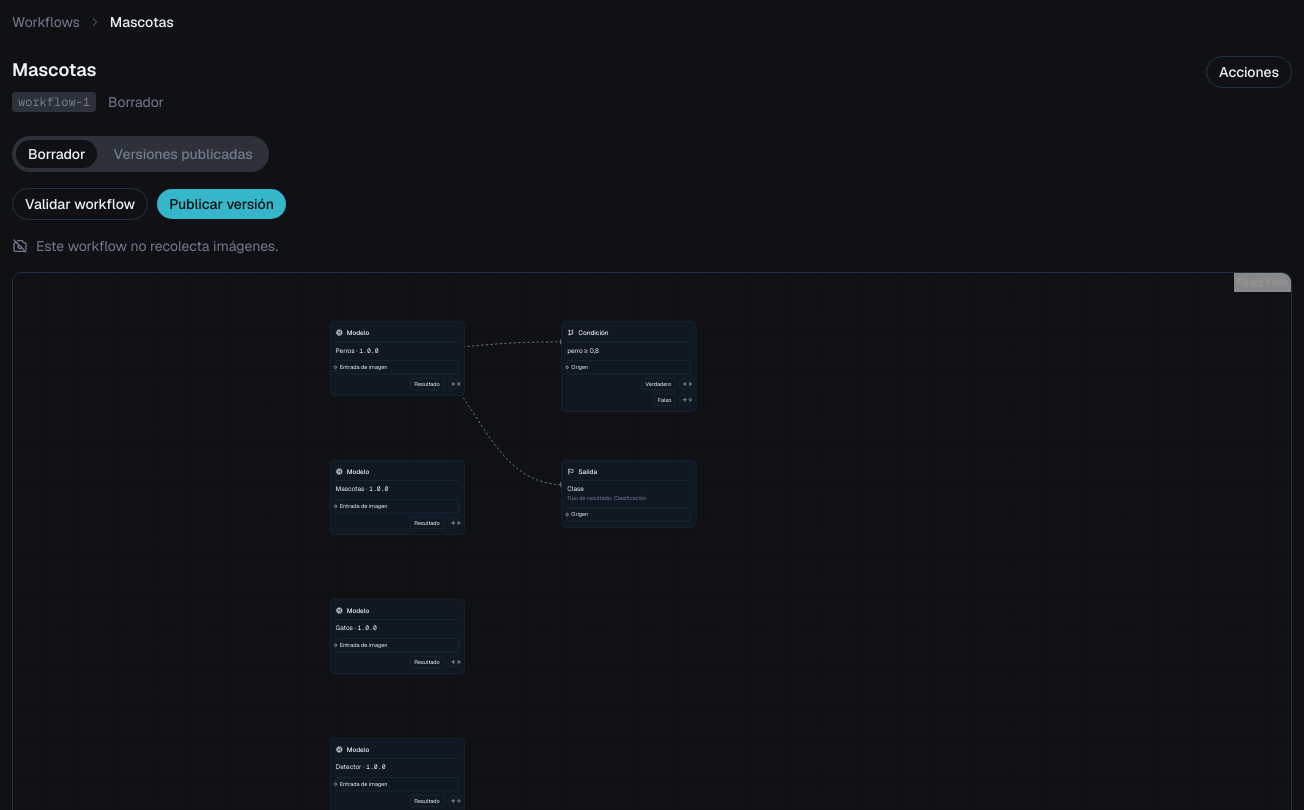
US-131: reassigning the Origen of a condition or an output › shows the cycle rule of US-033 and its nodes when the server finds a cycle
Expected: the element with test id "workflow-node-condition" is shown, [561,321,696,412]
What coordinates should you click on to do the following:
click the 2nd button "Resultado"
I would click on:
 (427, 523)
Its box is [410,517,444,529].
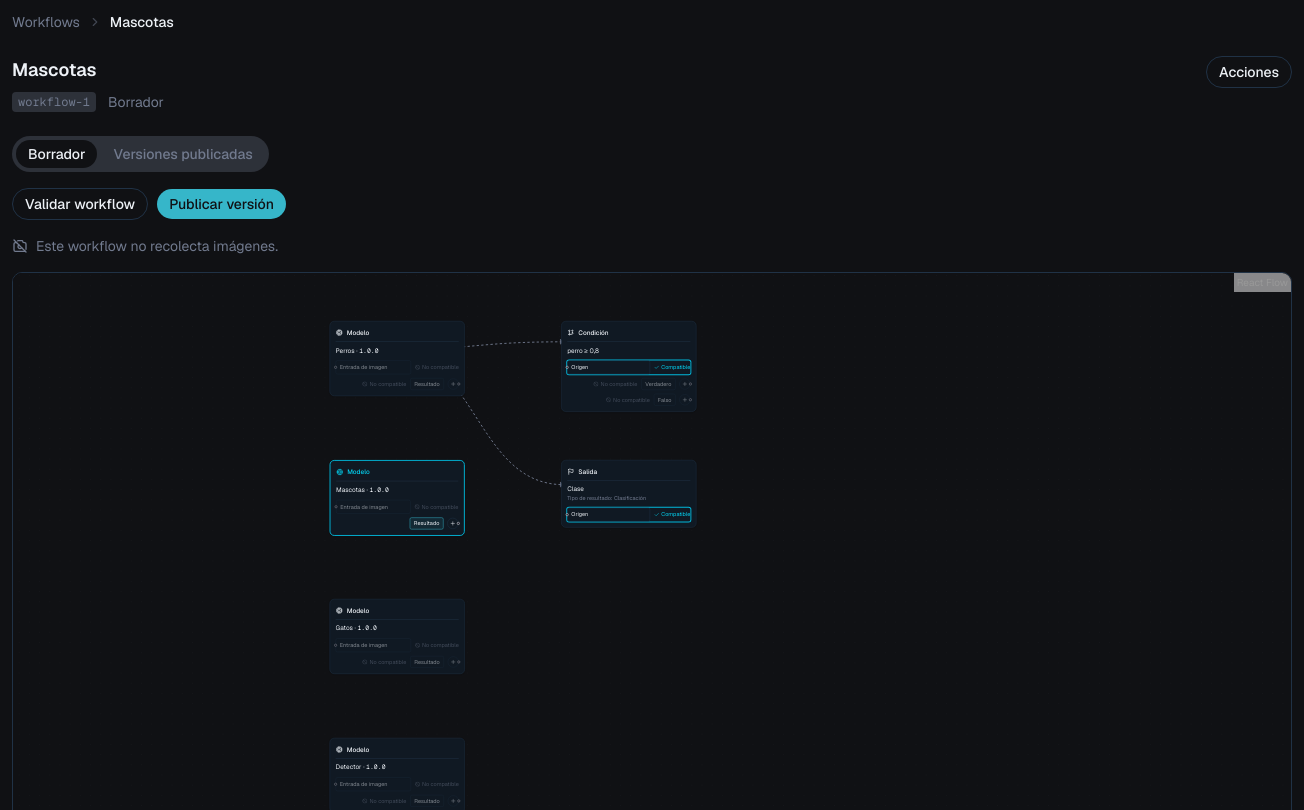
What coordinates should you click on to do the following:
click the button "Origen" below "perro ≥ 0,8"
I would click on:
 (609, 367)
Its box is [567,360,650,374].
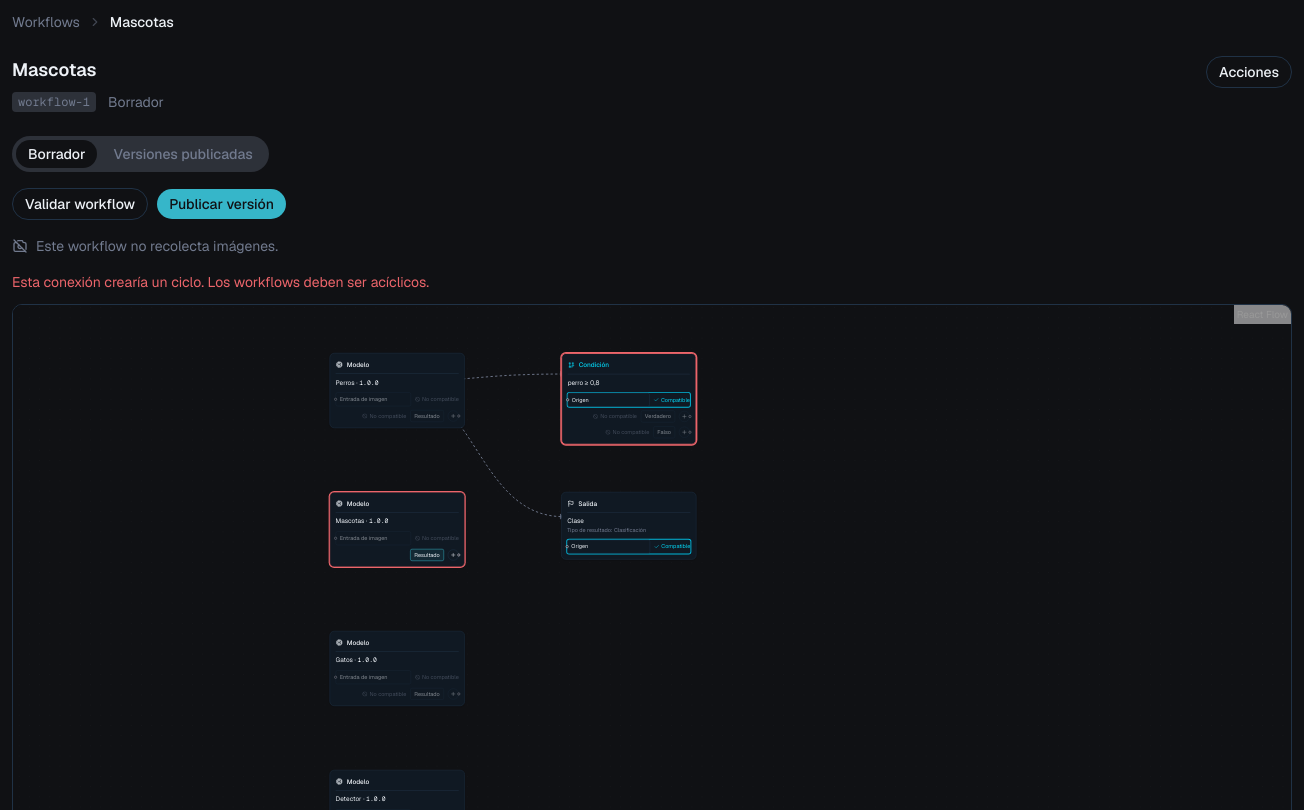
Expected: the message reads "Esta conexión crearía un ciclo. Los workflows deben ser acíclicos.", [12,273,429,291]
